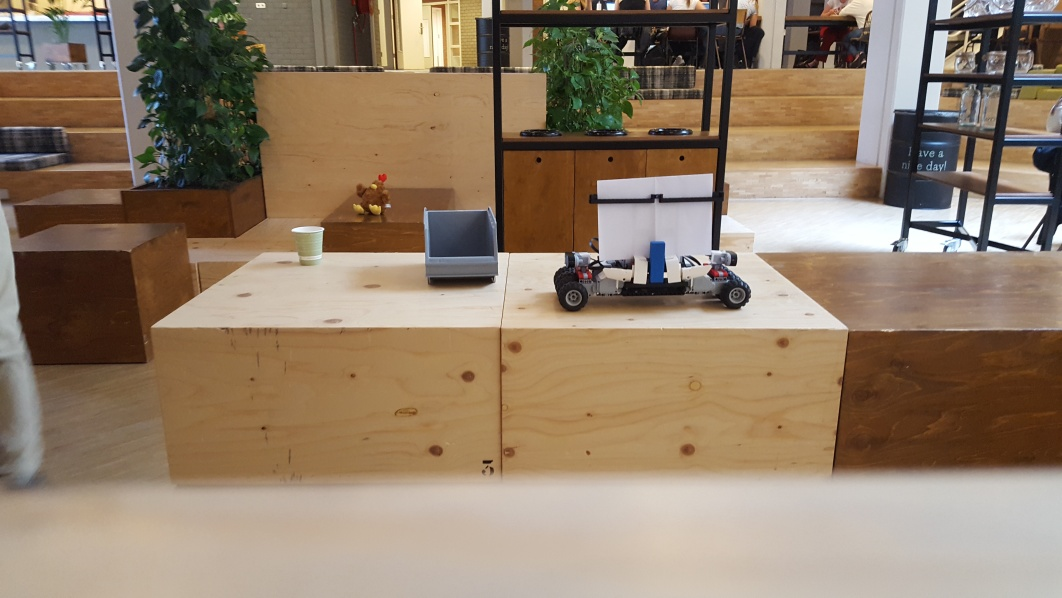car: (553, 171, 755, 313)
chicken: (354, 174, 392, 216)
cup: (293, 226, 324, 265)
tray: (417, 205, 504, 287)
